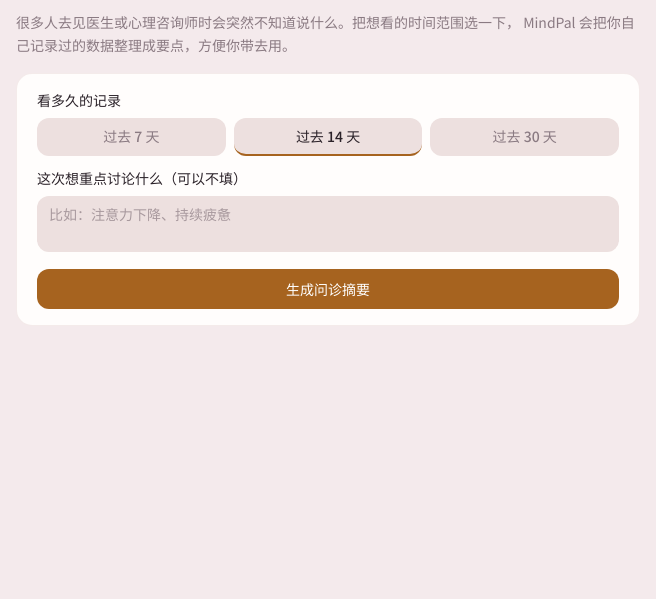
Scenario: AppointmentSummaryView › generates a summary with the selected days and discuss topics
Step 1. Click the button "过去 7 天" → (131, 136), box [37, 118, 226, 156]
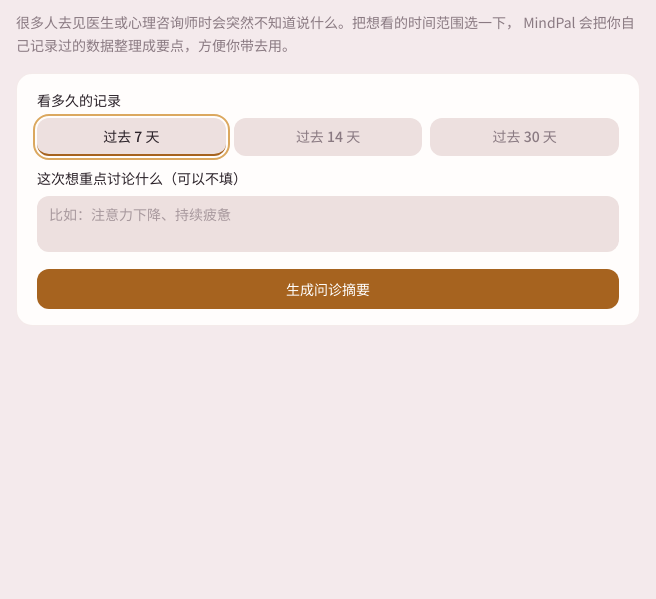
Step 2. Type "注意力下降和持续疲惫" into the text box with placeholder "比如：注意力下降、持续疲惫" → (328, 224), box [37, 196, 619, 252]
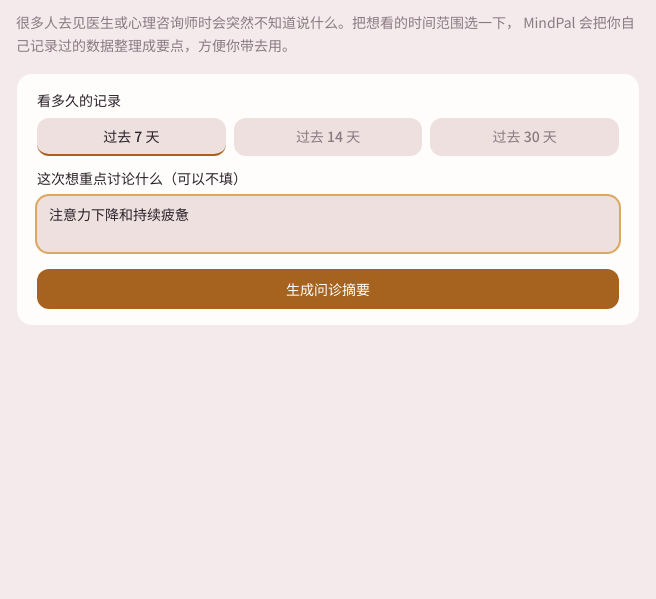
Step 3. Click the button "生成问诊摘要" → (328, 288), box [37, 268, 619, 308]
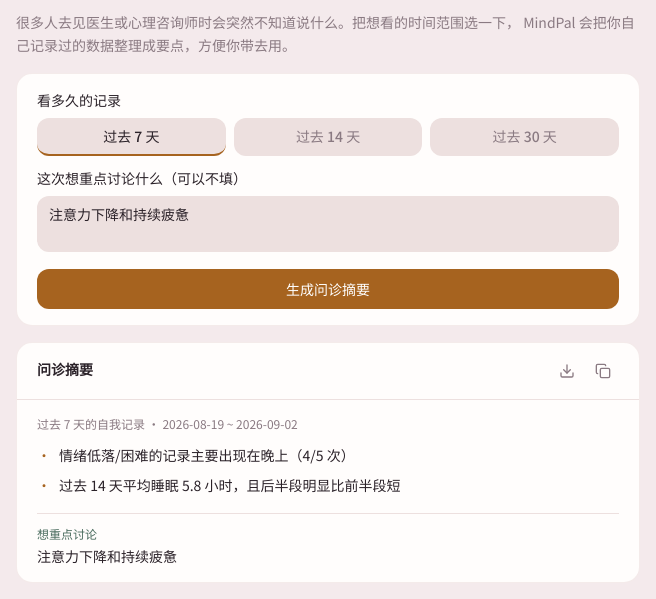
Expected: the list item "情绪低落/困难的记录主要出现在晚上（4/5 次）" is shown, [59, 444, 355, 464]
Expected: the text "想重点讨论" is shown, [37, 525, 97, 542]
